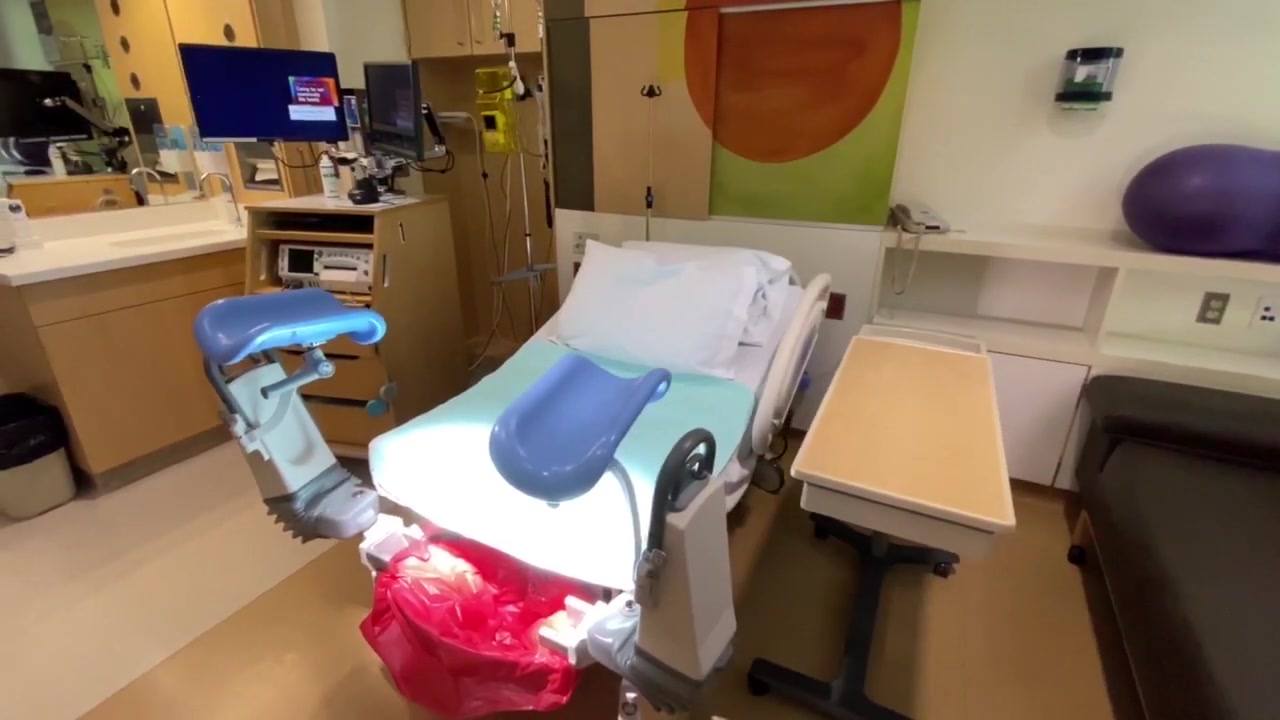bedrail: (750, 270, 834, 485)
computer: (184, 45, 348, 141), (364, 60, 427, 165)
counter: (1, 241, 258, 487)
countertop: (1, 219, 248, 286)
dispenser: (153, 124, 195, 178)
drawer: (244, 197, 462, 454)
faucet: (198, 173, 243, 223), (128, 166, 174, 205)
handle: (450, 4, 464, 47), (469, 1, 482, 44)
hospital_bed: (372, 240, 833, 694)
iv_pole: (491, 1, 562, 310), (639, 83, 661, 233)
mouse: (351, 189, 380, 205)
overbed_table: (751, 323, 1022, 714)
sink: (112, 224, 225, 247)
sofa: (1067, 376, 1280, 720)
telephone: (891, 200, 948, 236)
waste_bin: (363, 528, 603, 705), (1, 391, 76, 524)
